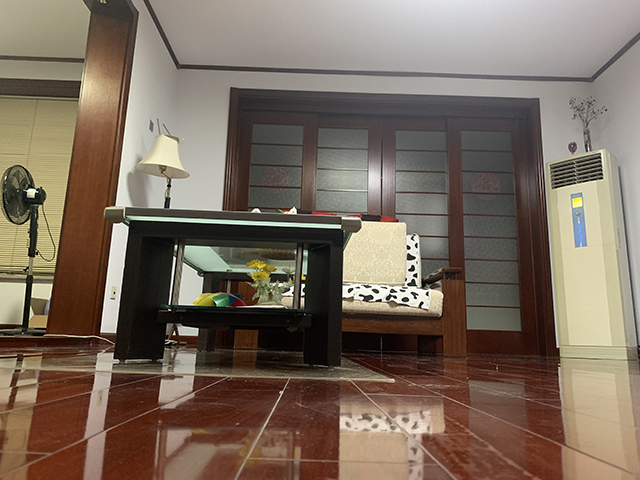sofa: (234, 205, 470, 358)
table: (102, 205, 364, 370)
wire: (44, 333, 115, 345)
